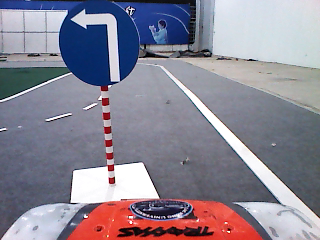turn: (57, 1, 140, 87)
